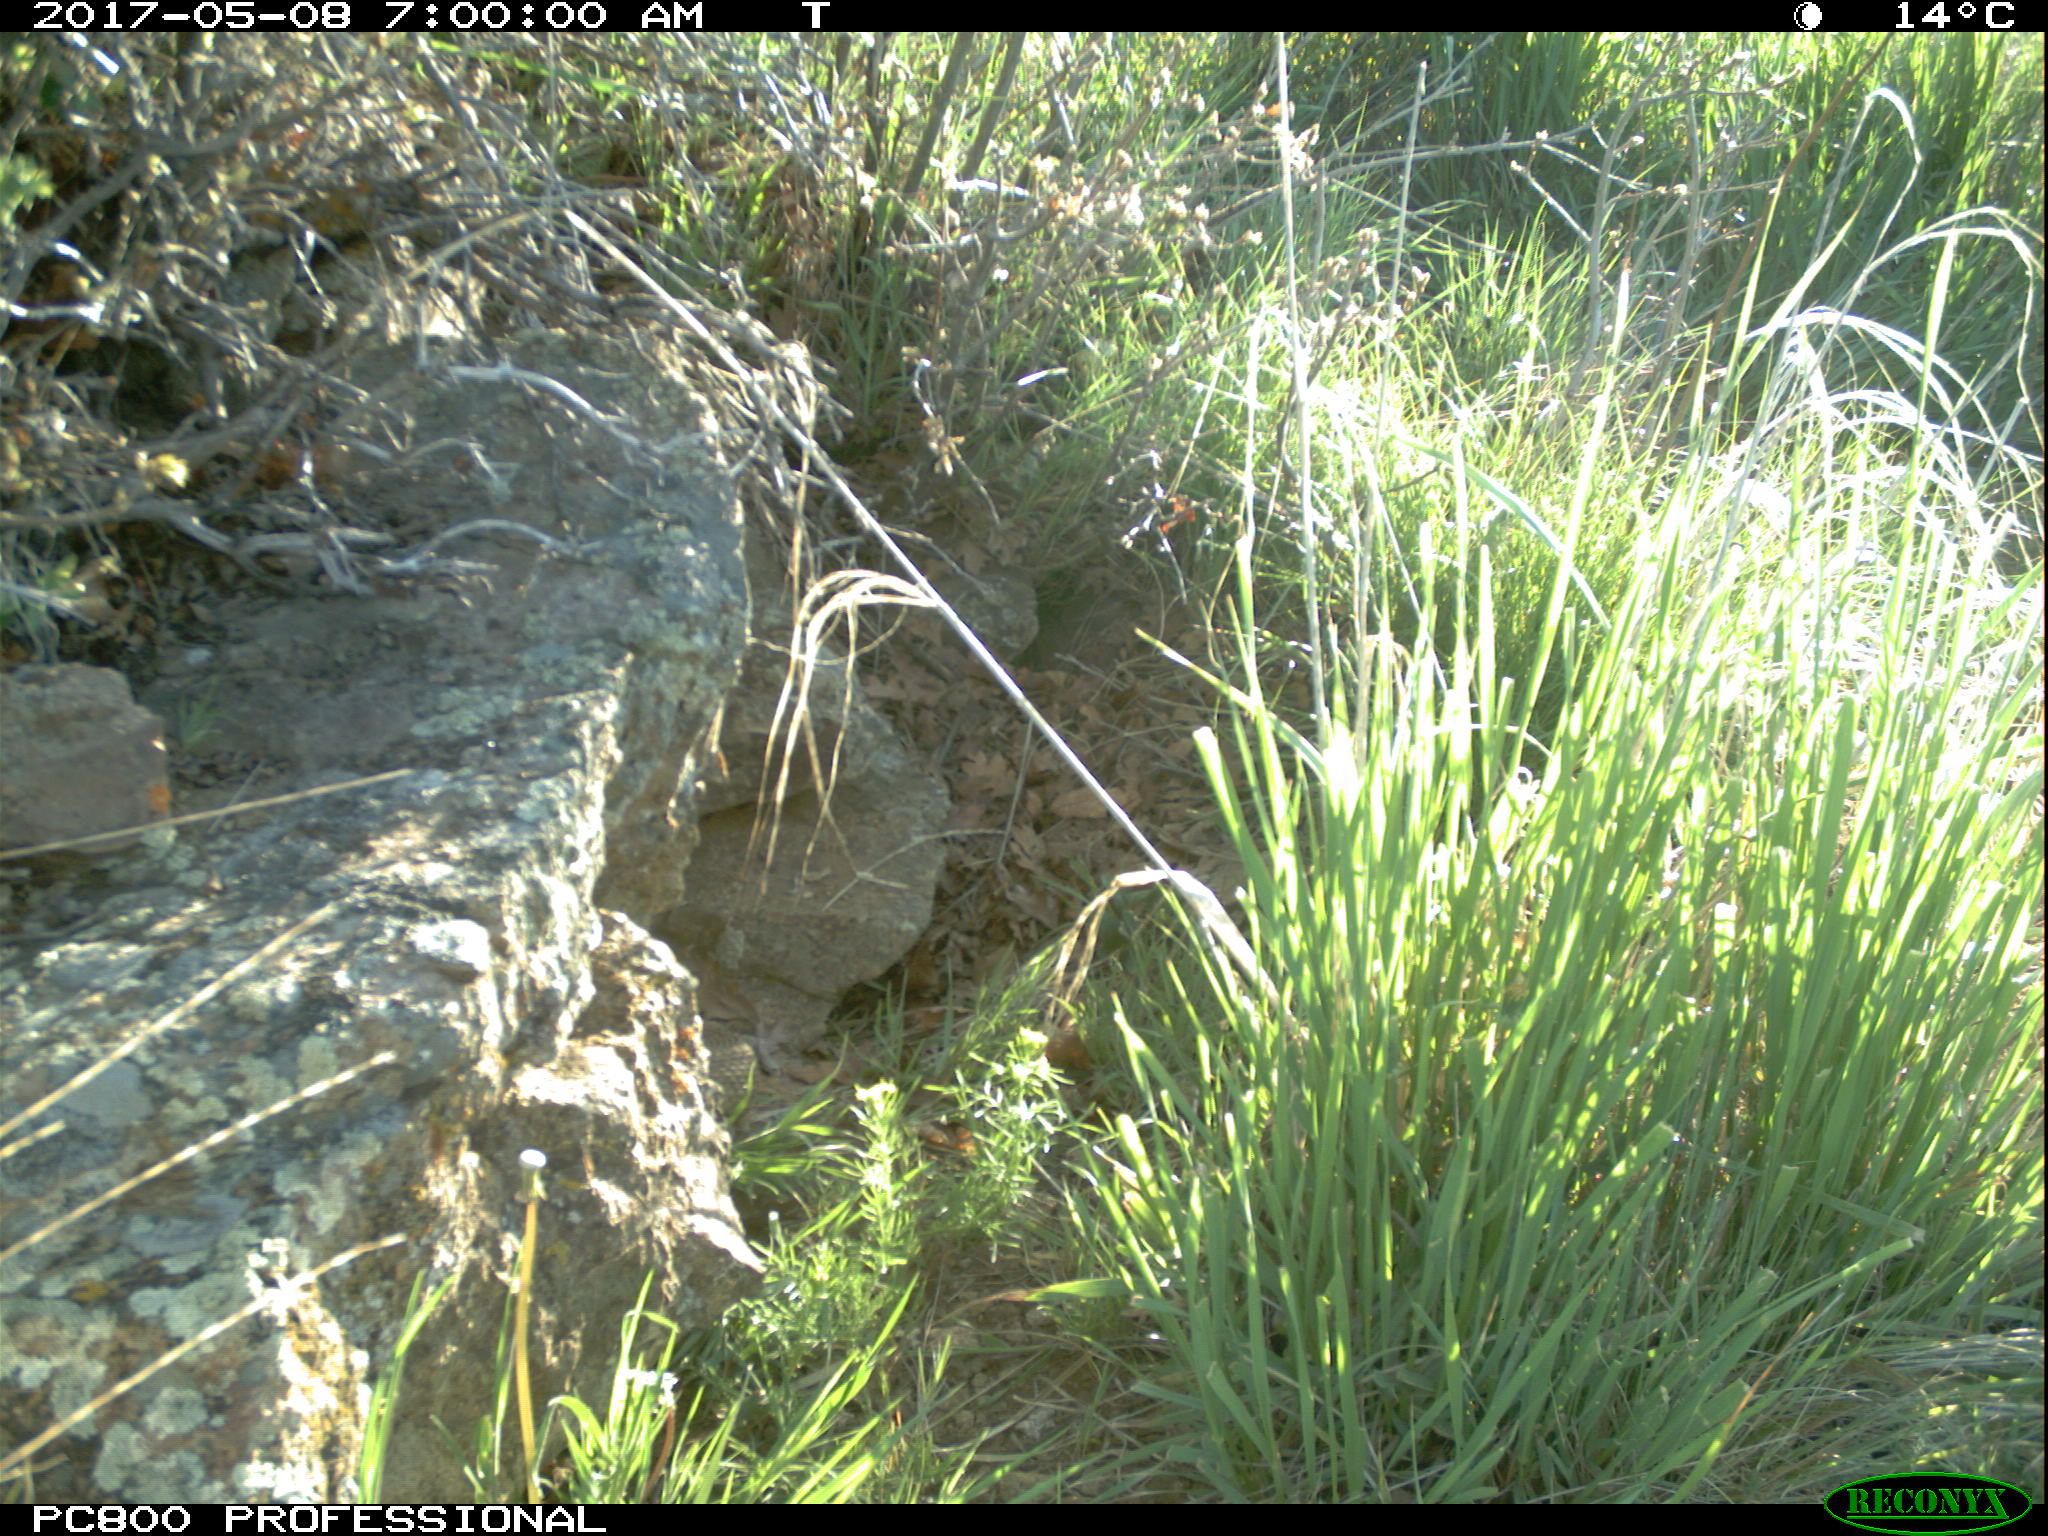snake: (685, 979, 779, 1117)
